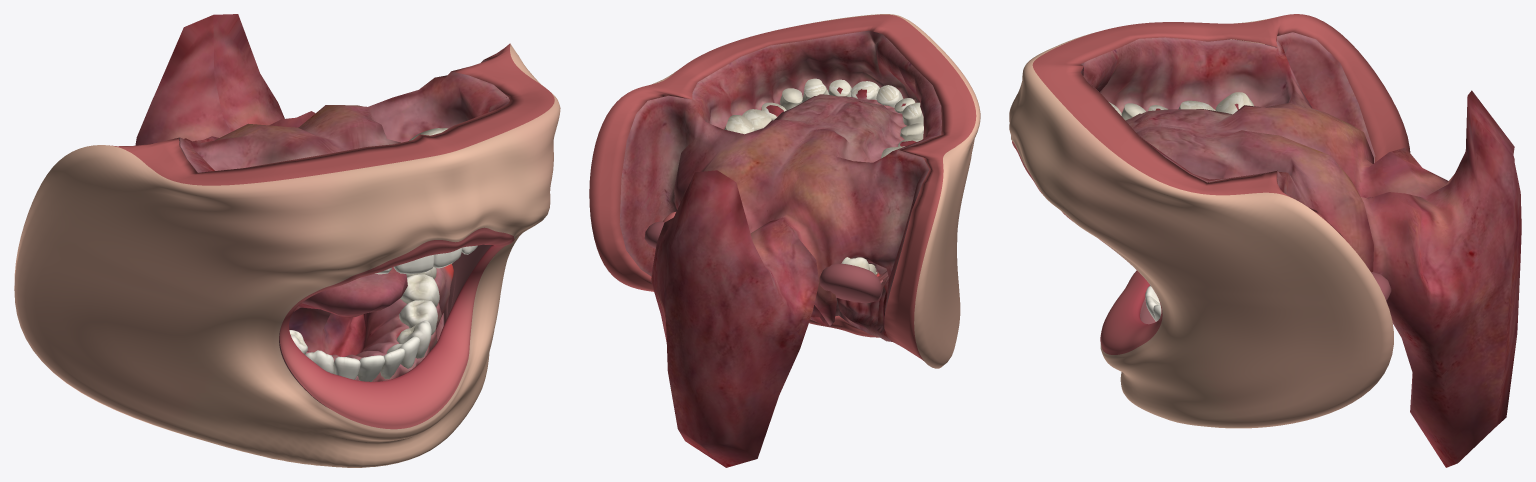
Rendered from polost_rta.glb.
3 views of the same model, side by side, from view 1: azimuth 30°, elevation 25°; view 2: azimuth 150°, elevation 25°; view 3: azimuth 270°, elevation 25° (orthographic). The views are drawn at different scales.
Visible parts, largest first — view 1: shcheka_prav, guba_verh, guba_niz, glotka, guba_niz_kayma, shcheka_lev, yazyk, desna_verh, guba_verh_kayma, dno_rta, nebo, desna_niz (+4 smaller); view 2: glotka, shcheka_prav, shcheka_lev, desna_verh, guba_verh, nebo, desna_48, desna_niz, zub_11, guba_niz, zub_27, zub_26; view 3: shcheka_lev, glotka, guba_verh, shcheka_prav, desna_verh, guba_niz, nebo, guba_niz_kayma.
Boxes of the visible parts, box(x1,y1,x2,y2) form: shcheka_prav: box(14, 123, 345, 383); guba_verh: box(125, 56, 560, 284); guba_niz: box(67, 308, 498, 467); glotka: box(135, 14, 315, 145); guba_niz_kayma: box(279, 269, 484, 429); shcheka_lev: box(298, 43, 529, 321); yazyk: box(289, 267, 407, 356); desna_verh: box(180, 71, 509, 172); guba_verh_kayma: box(285, 227, 514, 318); dno_rta: box(306, 298, 409, 361); nebo: box(216, 112, 418, 170); desna_niz: box(355, 268, 449, 381); glotka: box(651, 170, 818, 467); shcheka_prav: box(769, 124, 971, 368); shcheka_lev: box(589, 84, 820, 290); desna_verh: box(692, 30, 941, 150); guba_verh: box(652, 14, 980, 159); nebo: box(722, 87, 916, 162); desna_48: box(819, 263, 881, 303); desna_niz: box(835, 256, 891, 341); zub_11: box(876, 85, 903, 107); guba_niz: box(646, 290, 878, 337); zub_27: box(724, 115, 754, 134); zub_26: box(742, 109, 771, 130); shcheka_lev: box(1085, 130, 1393, 417); glotka: box(1352, 90, 1521, 467); guba_verh: box(1009, 18, 1277, 231); shcheka_prav: box(1212, 14, 1410, 182); desna_verh: box(1080, 37, 1288, 182); guba_niz: box(1100, 331, 1317, 428); nebo: box(1125, 100, 1288, 179); guba_niz_kayma: box(1100, 270, 1162, 354).
Size of the model in its own units: 0.1287 by 0.1149 by 0.1325.
Materials: 7 (2 with a texture image).
